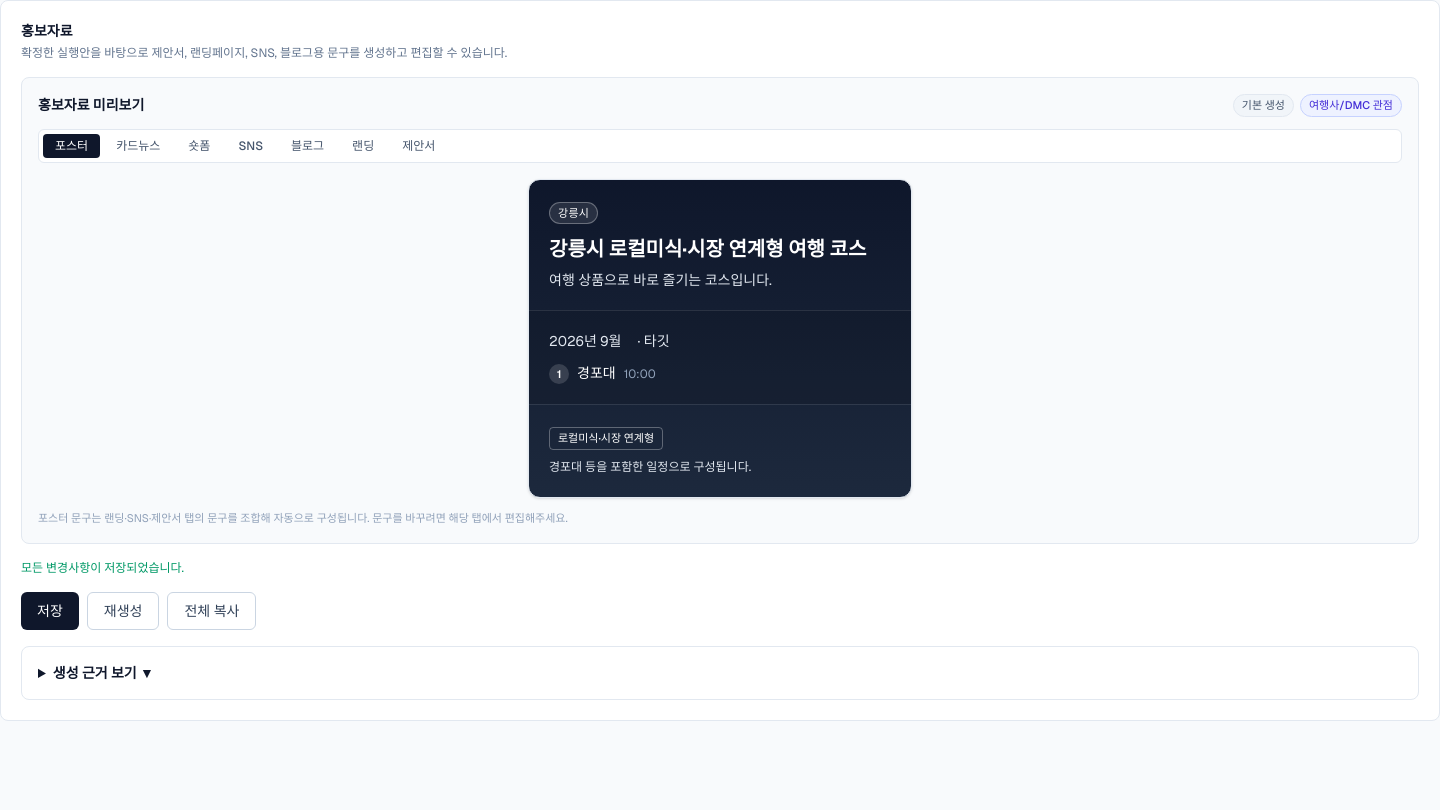
Scenario: 복사 › clipboard 실패 시 '복사됨'으로 표시하지 않는다
Click the button "전체 복사" at (212, 611), box [167, 592, 256, 630]
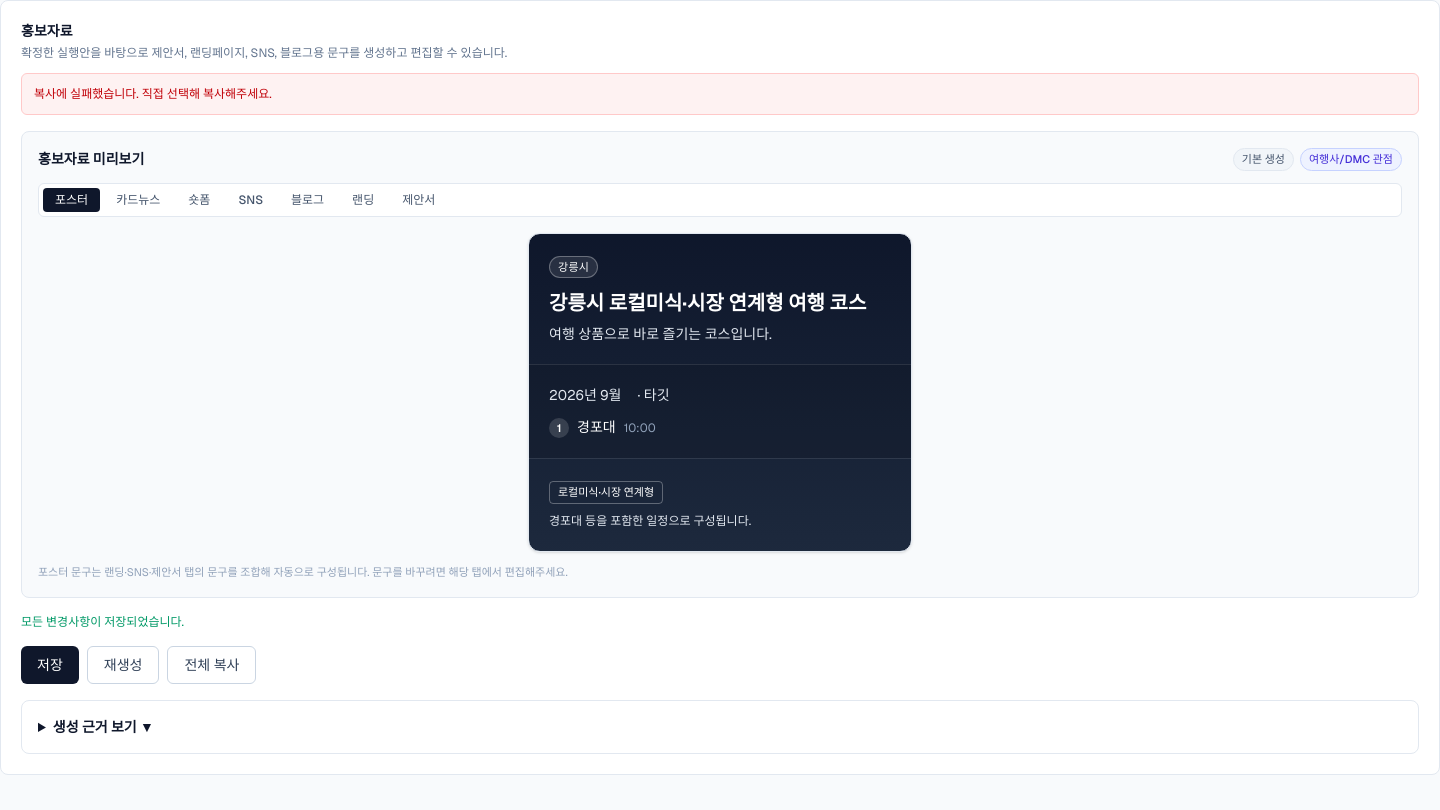
Expected: the message "복사에 실패했습니다. 직접 선택해 복사해주세요." is shown, [21, 73, 1419, 115]
